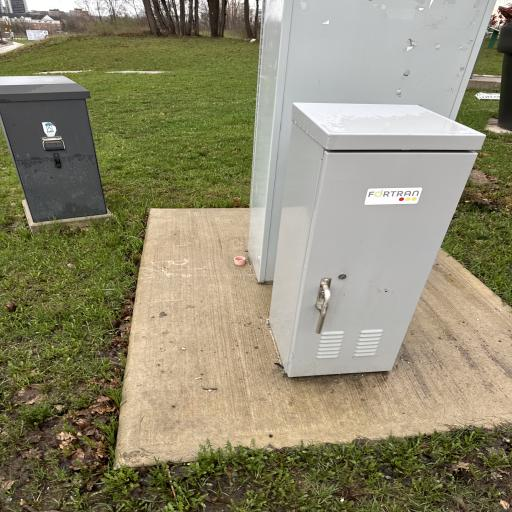Electrical Box: (244, 0, 496, 376), (0, 68, 110, 224)
